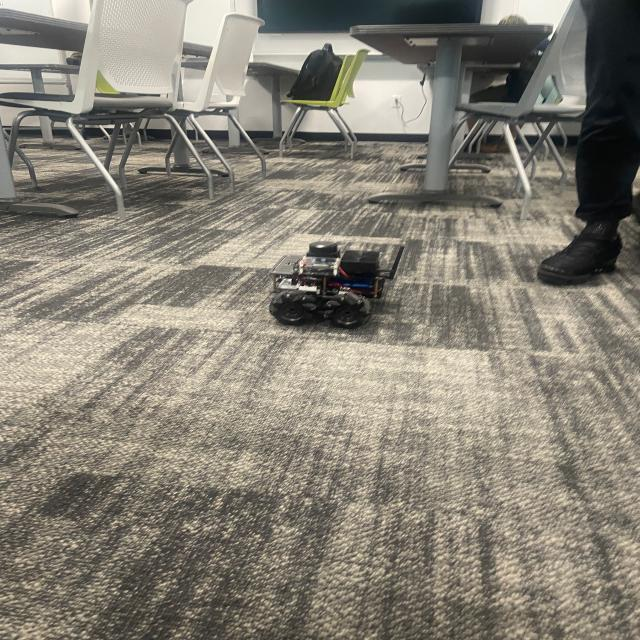ArduinoCar3: (278, 227, 404, 330)
